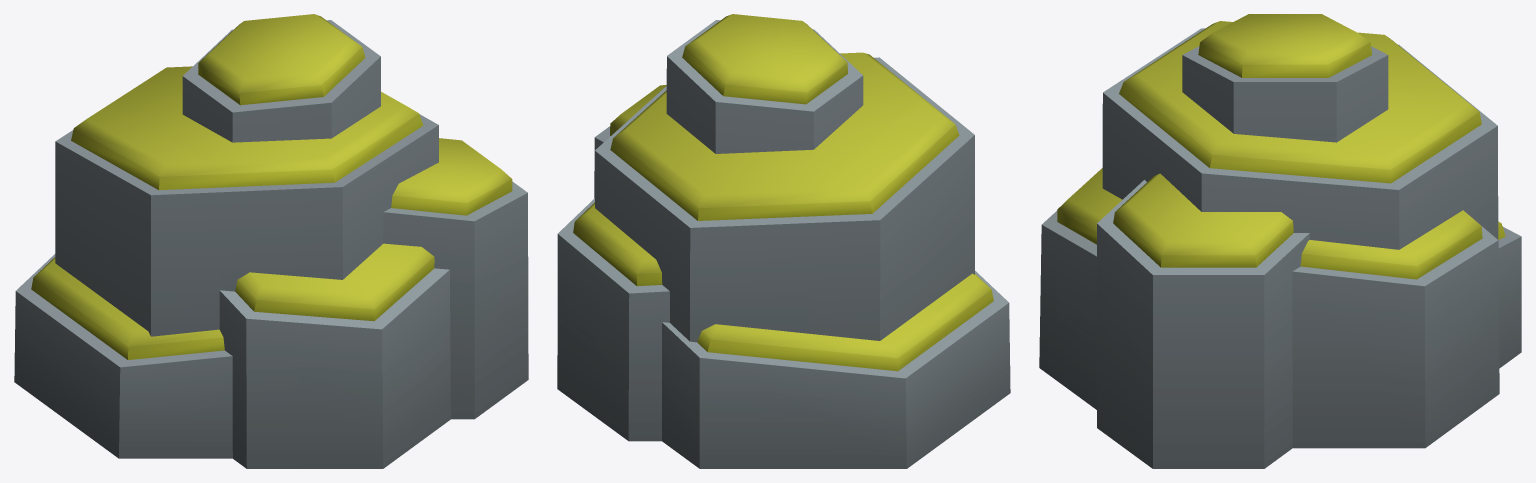
File: kaykit-medieval-hexagon-pack-mountain-a-grass.glb
3 renders of one model, left to right at view 1: azimuth 30°, elevation 25°; view 2: azimuth 150°, elevation 25°; view 3: azimuth 270°, elevation 25°, orthographic. The views are drawn at different scales.
Visible parts, largest first — view 1: mountain_A_grass; view 2: mountain_A_grass; view 3: mountain_A_grass.
Boxes of the visible parts, box(x1,y1,x2,y2) form: mountain_A_grass: box(14, 14, 528, 468); mountain_A_grass: box(557, 14, 1010, 468); mountain_A_grass: box(1039, 14, 1521, 468).
Bounding box in the file's own units: 1.8 × 1.5 × 1.88.
1 material, 1 textured.
